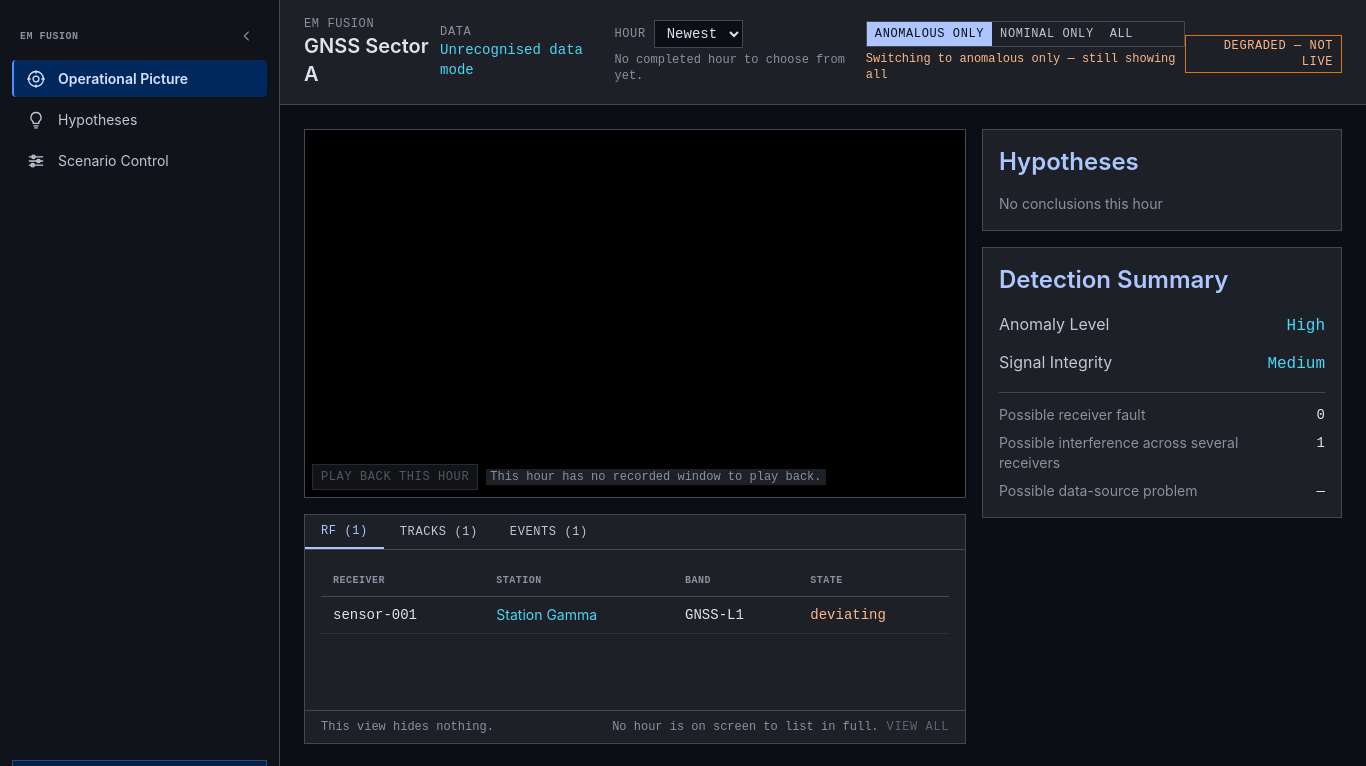
collapsing the navigation rail › expands again from the collapsed state
This screenshot has width=1366, height=766.
Click the button named "navigation".
click(247, 36)  # box [235,24,259,48]
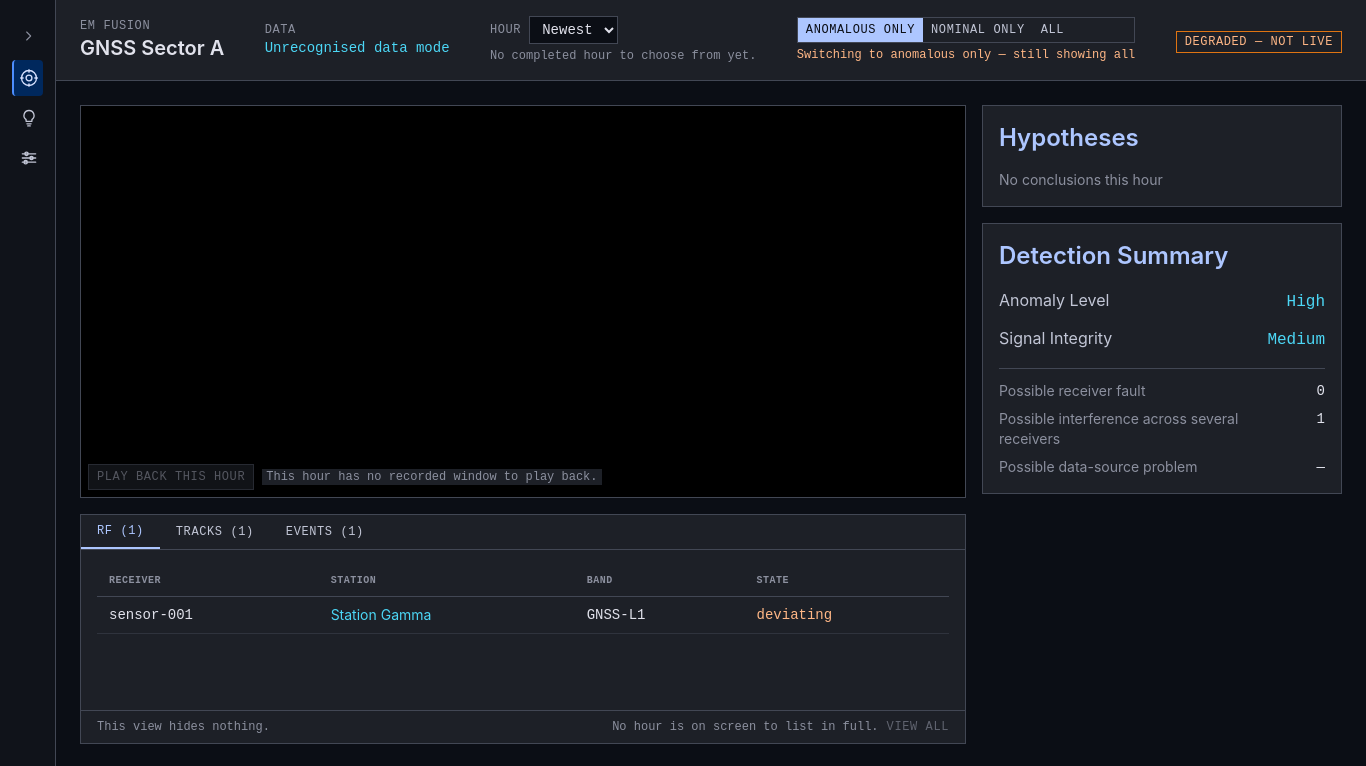
Click the button named "navigation".
click(28, 36)  # box [16,24,40,48]
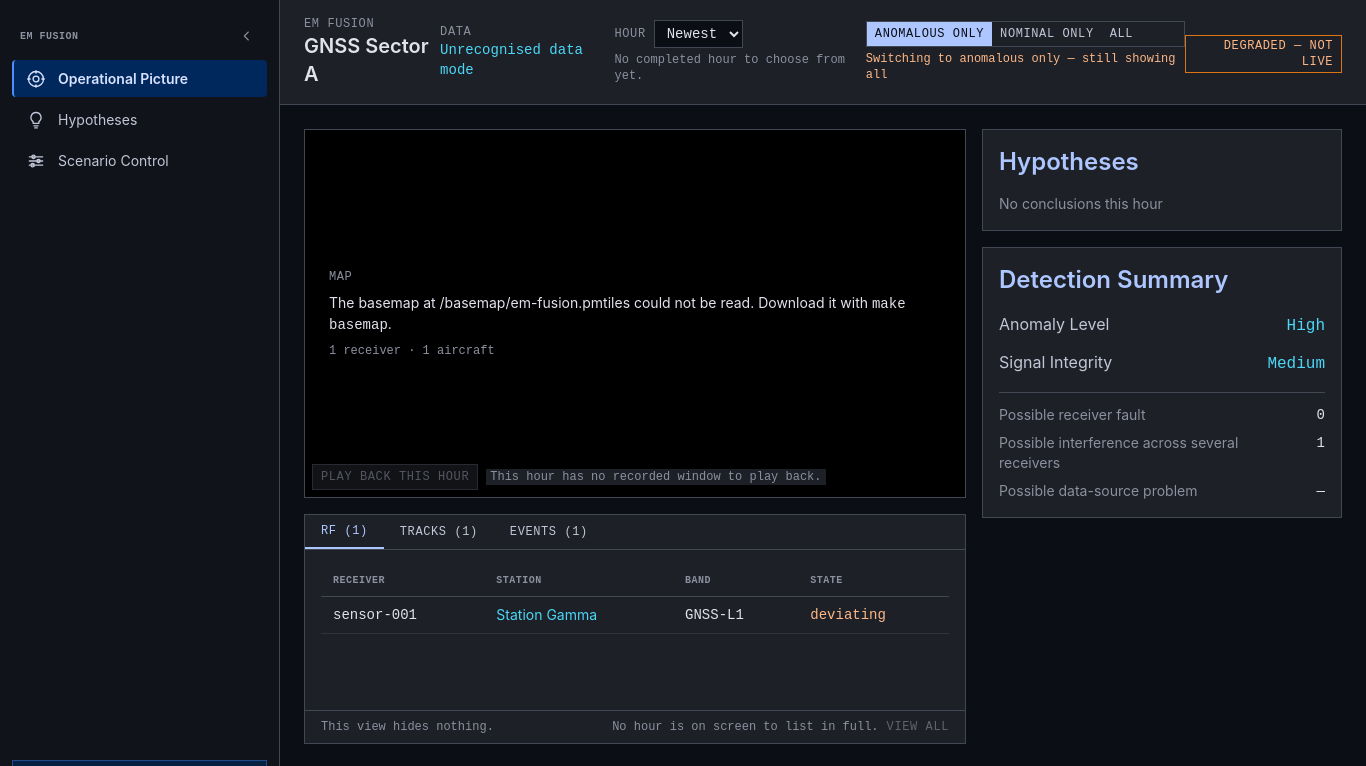
Expected: the link "Scenario Control" is shown, [26,150,169,170]
Result: the button named "navigation" is expanded at [235,24,259,48]
